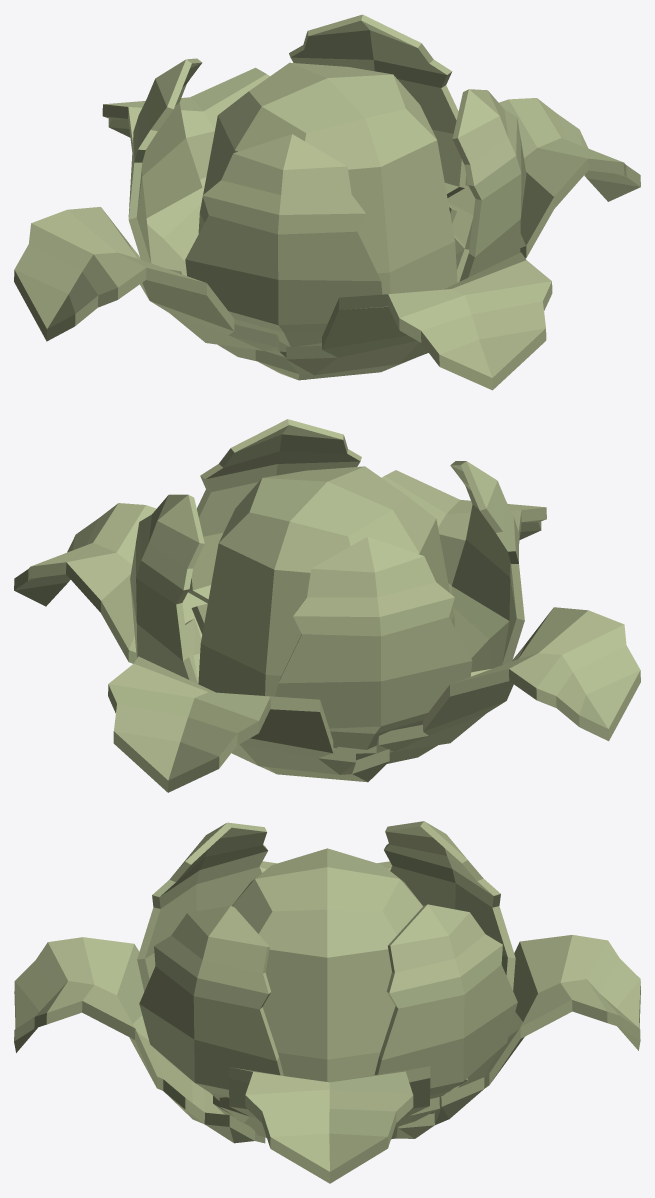
Rendered from lettuce_4.glb.
The picture shows the model from 3 angles, top to bottom: view 1: azimuth 30°, elevation 25°; view 2: azimuth 150°, elevation 25°; view 3: azimuth 270°, elevation 25°; orthographic projection. The views are drawn at different scales.
Parts seen in each view (by area): view 1: Lettuce_4; view 2: Lettuce_4; view 3: Lettuce_4.
Part boxes in pixels (left/top/right/bottom): Lettuce_4: left=14, top=14, right=640, bottom=390; Lettuce_4: left=14, top=419, right=640, bottom=792; Lettuce_4: left=14, top=821, right=640, bottom=1183.
Size of the model in its own units: 1.04 by 0.4741 by 1.04.
